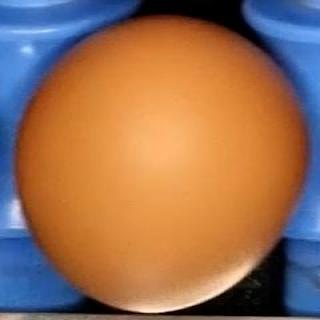Telur: (13, 14, 314, 313)
